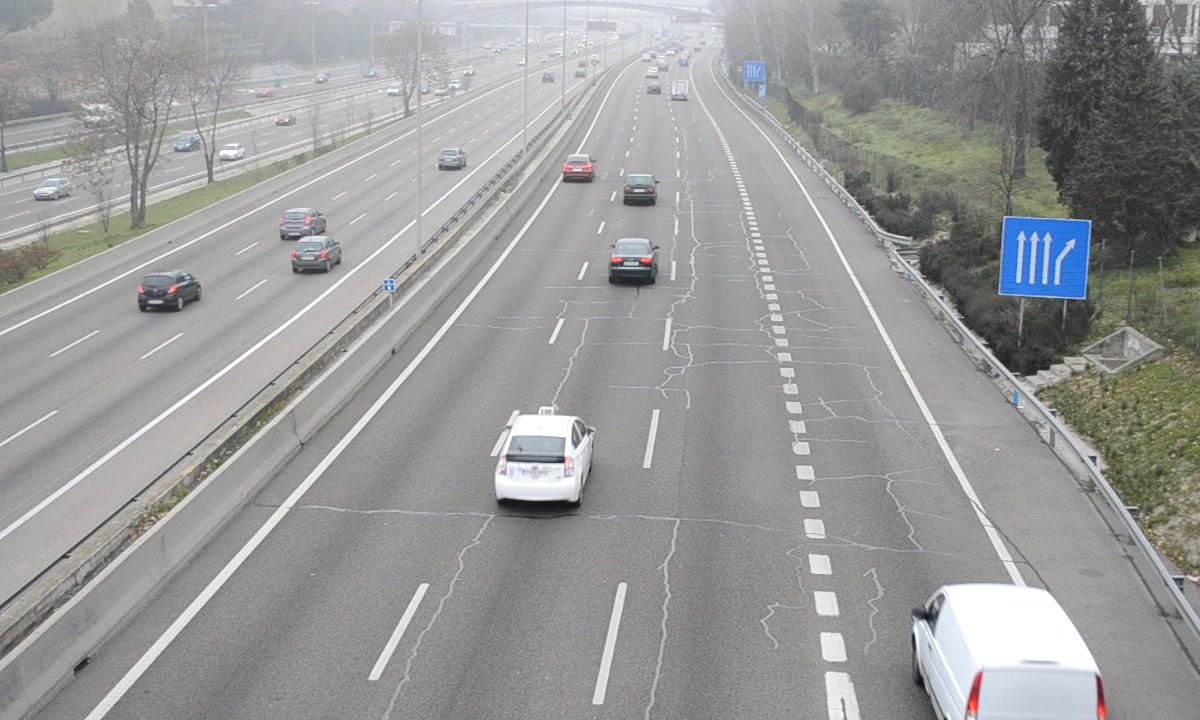car: (494, 413, 591, 505), (609, 237, 657, 280), (622, 173, 657, 205), (562, 153, 597, 181)
van: (912, 582, 1107, 720)
